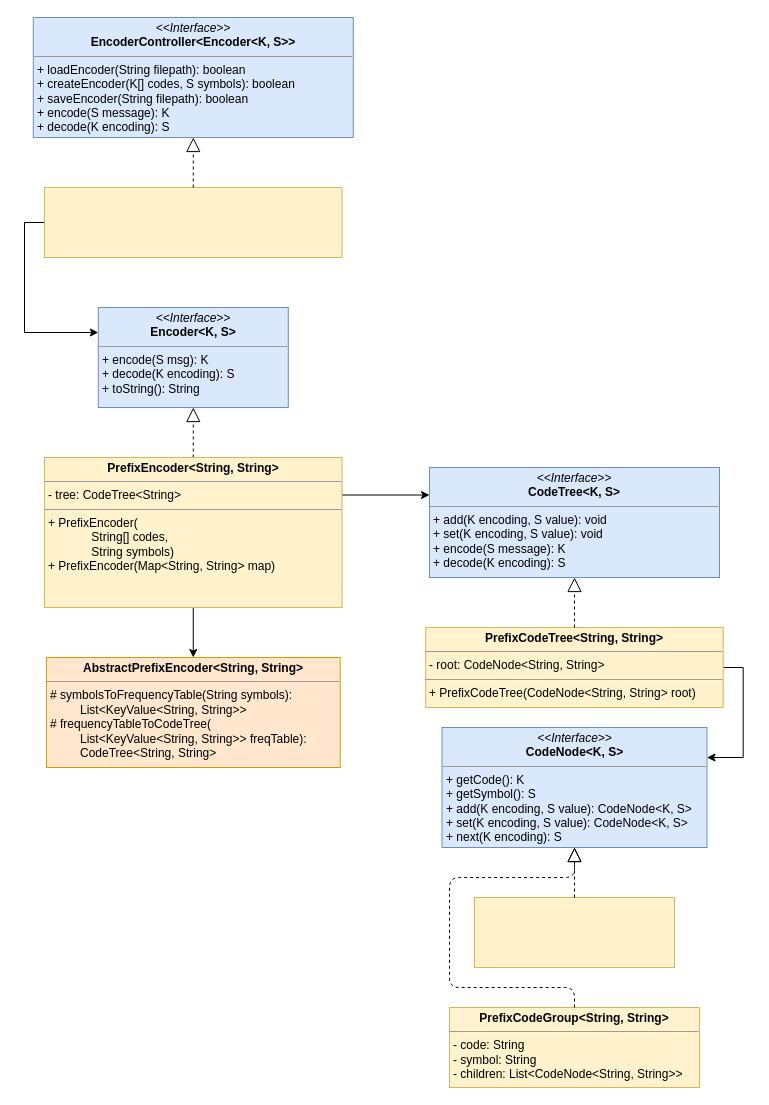
The diagram is 769 pixels wide and 1105 high, and some of its shapes have lost their labels. Each missing label, with the box of its shape:
PrefixCodeLeaf<String, String> - code: String - symbol: String: (474, 896, 674, 968)
PrefixEncoderController<PrefixEncoder> - encoder: Encoder<String, String>: (44, 186, 342, 258)
